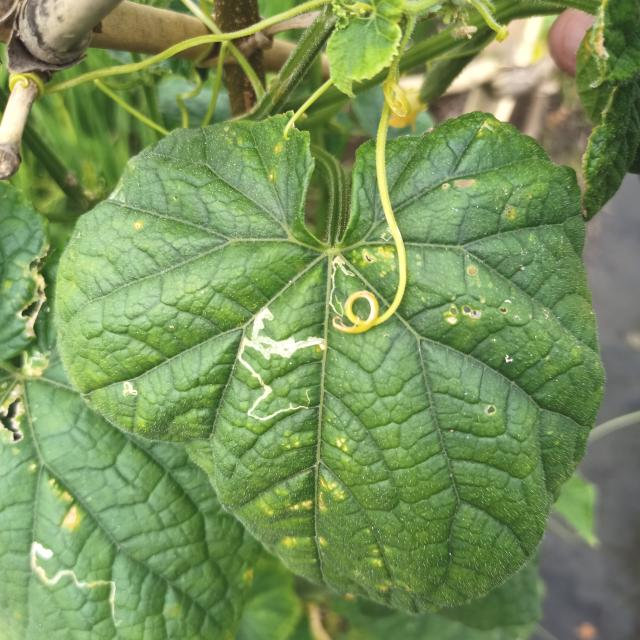disease_cucumber: (290, 434, 348, 522), (349, 242, 396, 277)
